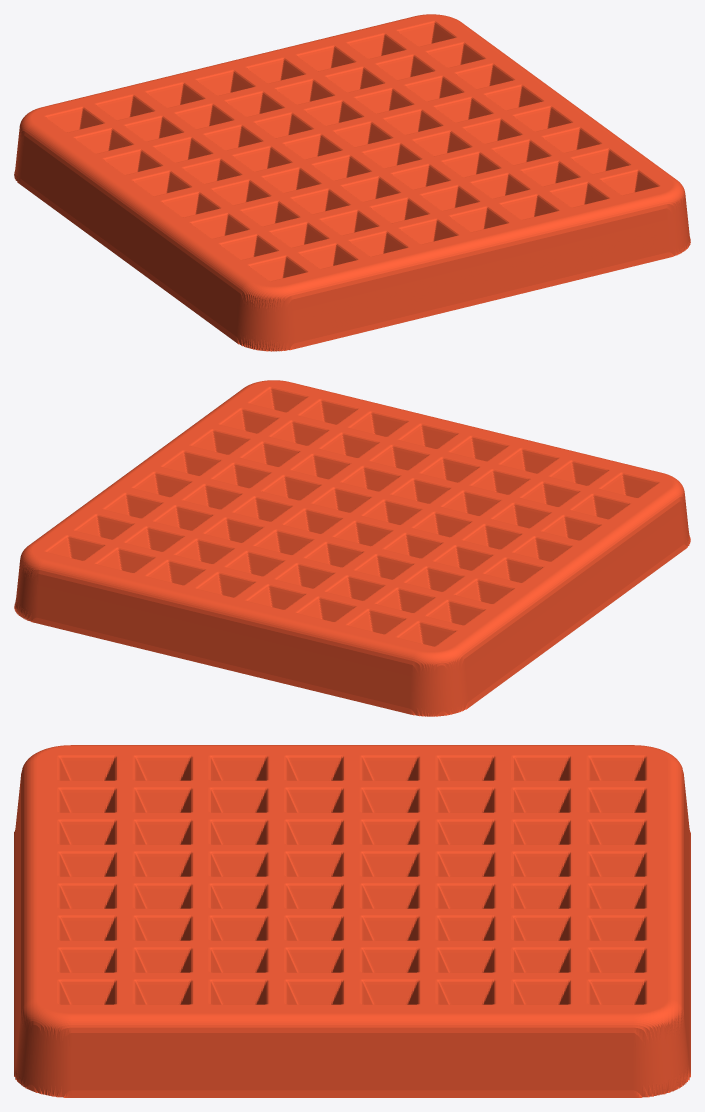
File: mold.glb
3 views of the same model, one above another, from view 1: azimuth 30°, elevation 25°; view 2: azimuth 150°, elevation 25°; view 3: azimuth 270°, elevation 25° (orthographic). The views are drawn at different scales.
Parts seen in each view (by area): view 1: geometry_0; view 2: geometry_0; view 3: geometry_0.
Boxes of the visible parts, <box> form: geometry_0: <box>14,14,690,351</box>; geometry_0: <box>14,380,690,716</box>; geometry_0: <box>14,745,690,1097</box>.
Size of the model in its own units: 0.1067 by 0.013 by 0.1067.
